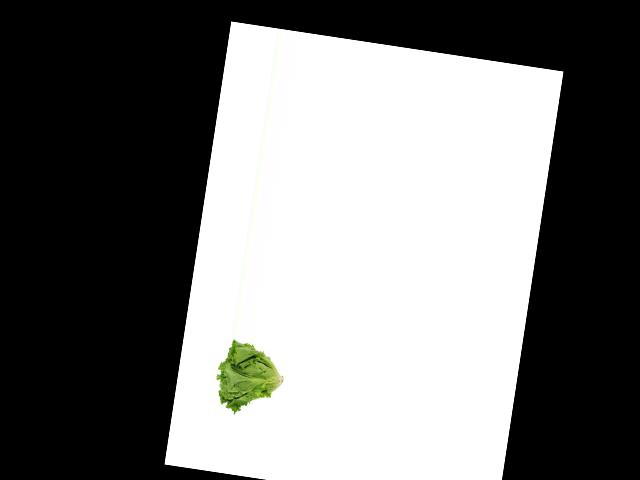lettuce: (209, 336, 290, 417)
